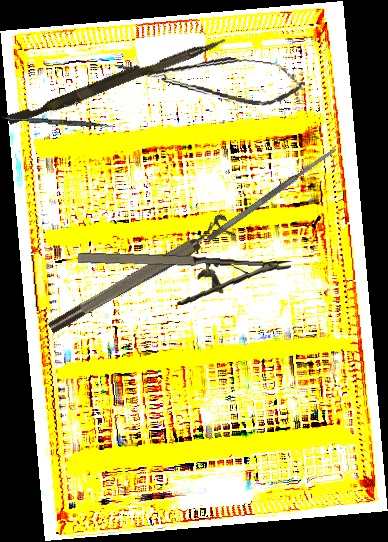Fixation Ring: (41, 212, 237, 337)
Micro Scissor: (111, 43, 307, 111)
Needle Holder: (75, 246, 292, 313)
Pusher: (6, 29, 227, 131)
Spatula Surgical: (205, 145, 340, 243), (0, 116, 115, 128)
